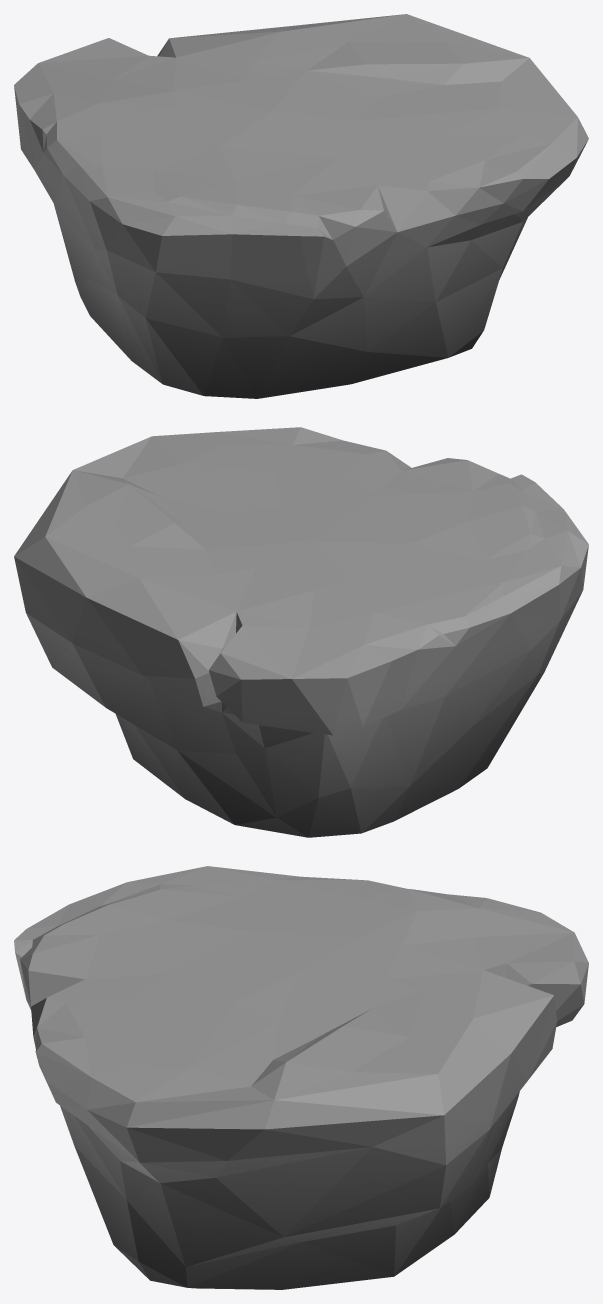
Rendered from Jungle_PlatformRock_Lrg_A.fbx.
3 renders of one model, top to bottom at view 1: azimuth 30°, elevation 25°; view 2: azimuth 150°, elevation 25°; view 3: azimuth 270°, elevation 25°, orthographic. The views are drawn at different scales.
Visible parts, largest first — view 1: Jungle_PlatformRock_Lrg_A; view 2: Jungle_PlatformRock_Lrg_A; view 3: Jungle_PlatformRock_Lrg_A.
Part boxes in pixels (x1,y1,x2,y2): Jungle_PlatformRock_Lrg_A: (14,14,588,398); Jungle_PlatformRock_Lrg_A: (14,427,588,837); Jungle_PlatformRock_Lrg_A: (14,866,588,1289).
Bounding box in the file's own units: 12.43 × 5.74 × 12.01.
Materials: 1 (1 with a texture image).
